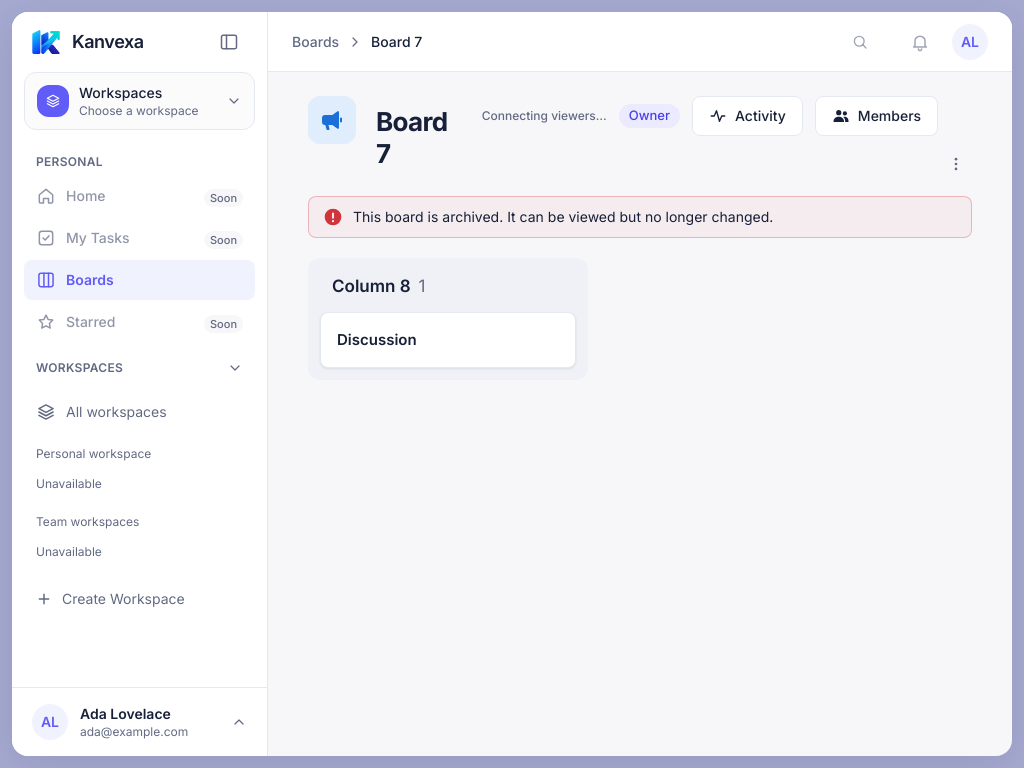
Scenario: card comments › keeps comments readable but hides writes when archived ({"archivedBoard":true})
What coordinates should you click on to do the following:
click the button "Discussion"
I would click on:
 (377, 340)
Its box is [337, 328, 417, 351].
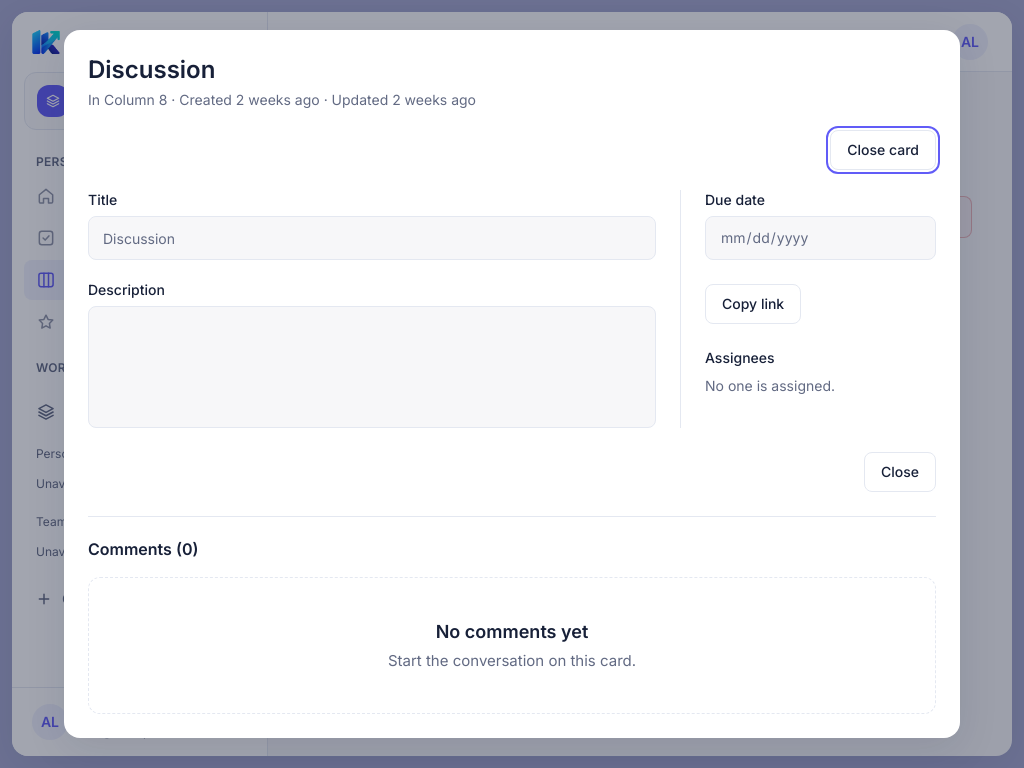
Expected: the heading "No comments yet" is shown, [436, 618, 588, 646]
